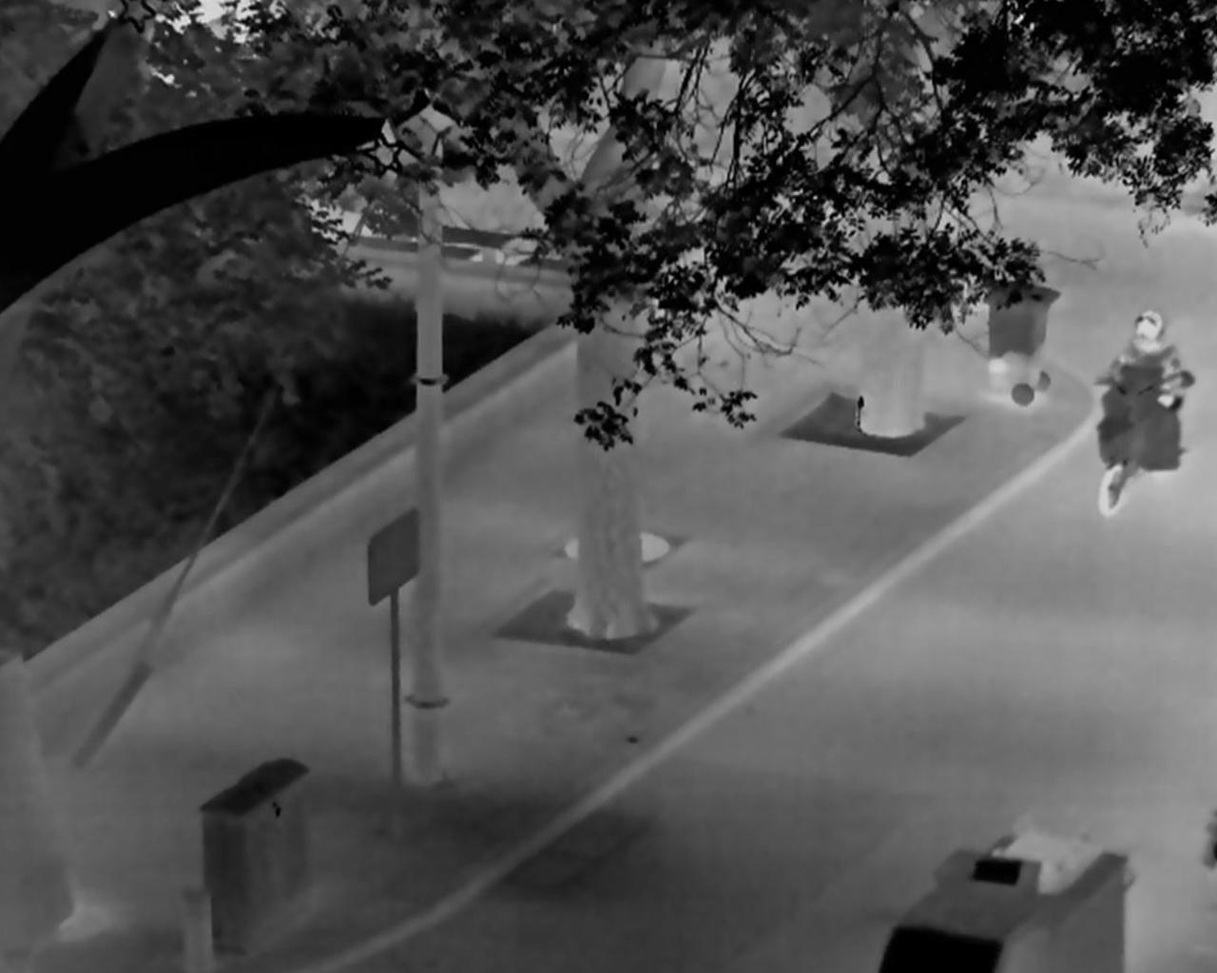person: (1094, 308, 1185, 470)
